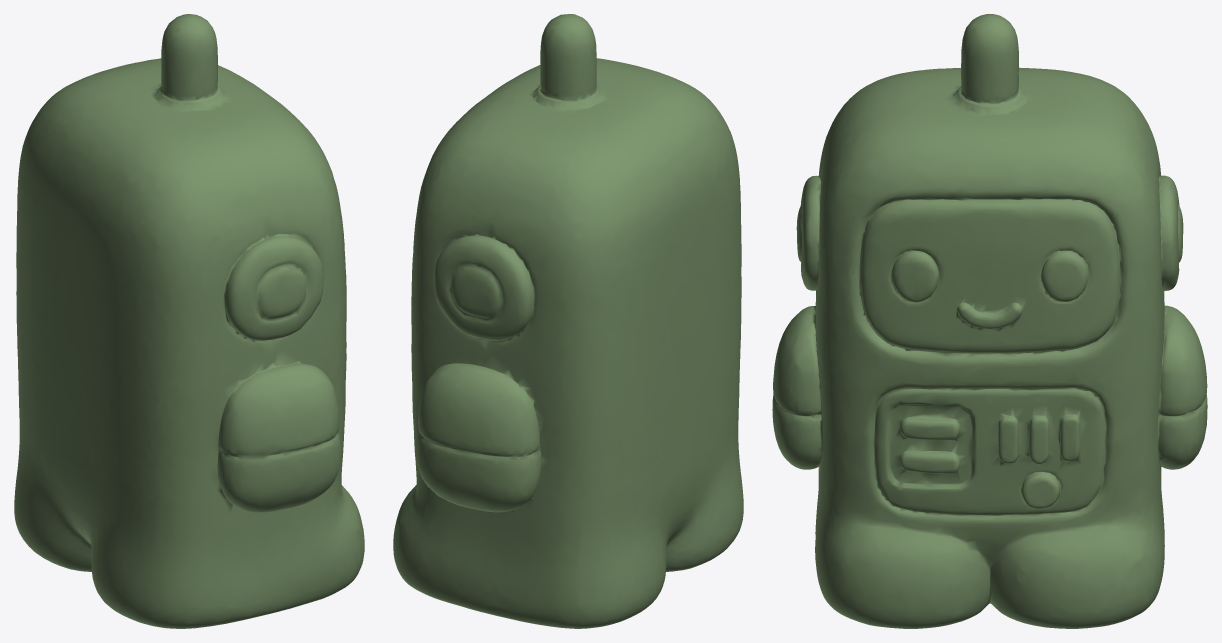
File: retro-robot.glb
The picture shows the model from 3 angles, left to right: view 1: azimuth 30°, elevation 25°; view 2: azimuth 150°, elevation 25°; view 3: azimuth 270°, elevation 25°; orthographic projection. The views are drawn at different scales.
Parts seen in each view (by area): view 1: tripo_printable_source; view 2: tripo_printable_source; view 3: tripo_printable_source.
Part boxes in pixels (x1=…): tripo_printable_source: x1=14, y1=14, x2=364, y2=628; tripo_printable_source: x1=393, y1=14, x2=743, y2=628; tripo_printable_source: x1=772, y1=14, x2=1207, y2=628.
Size of the model in its own units: 46.44 by 100 by 70.
